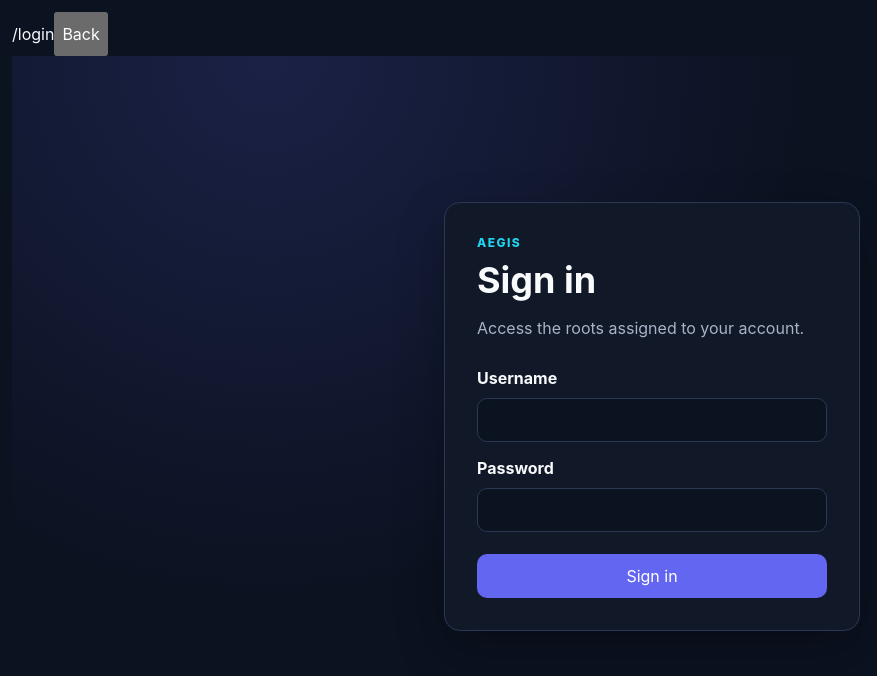
Scenario: LoginPage › blocks sign-in with a truthful safe message when private cleanup fails
The width and height of the screenshot is (877, 676).
Type "alice" into the field labelled "Username".
click(652, 420); type("alice")  # box [477, 398, 827, 442]
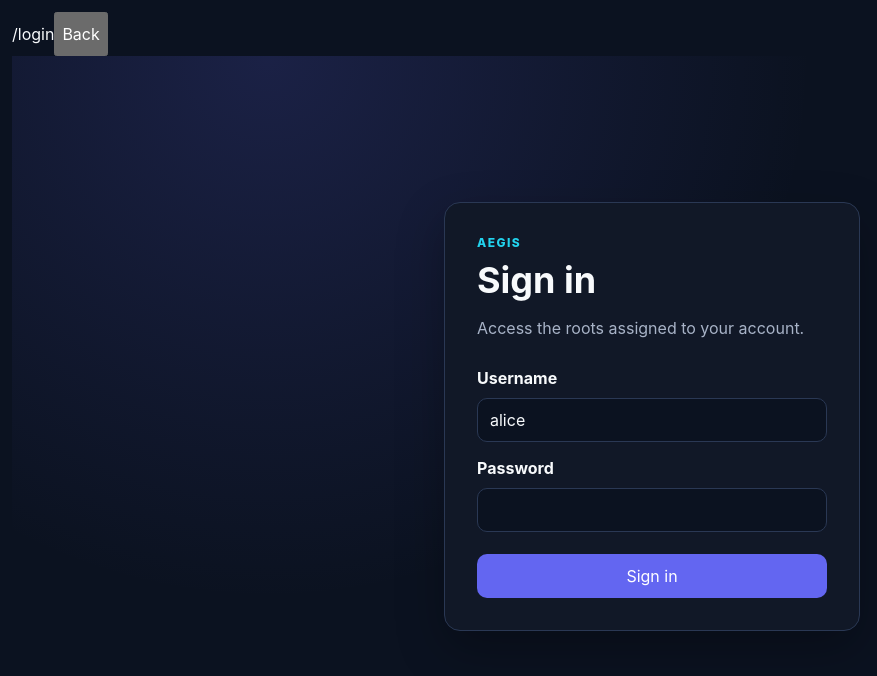
Type "correct horse battery staple" into the password field labelled "Password".
click(652, 510); type("correct horse battery staple")  # box [477, 488, 827, 532]
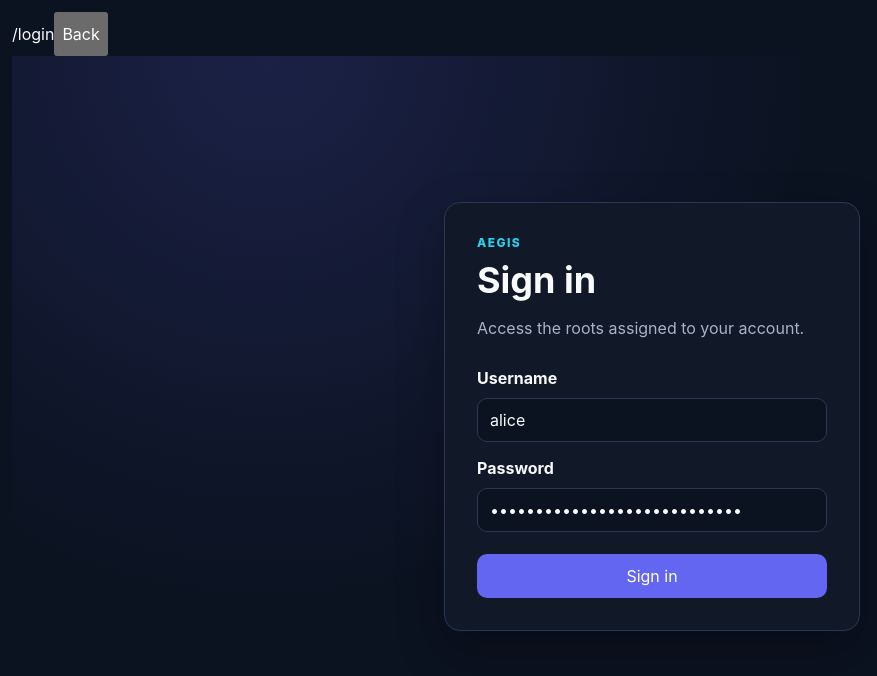
Click the button "Sign in".
click(652, 576)  # box [477, 554, 827, 598]
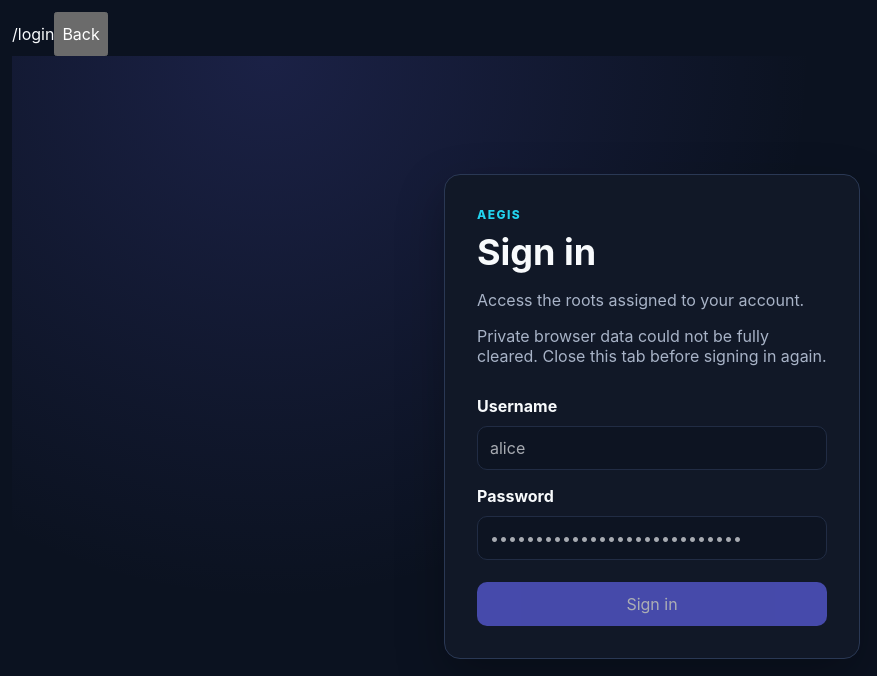
Expected: the text named "Current route" reads "/login", [12, 24, 54, 44]
Expected: the message shows "Private browser data could not be fully cleared. Close this tab before signing in again.", [477, 326, 826, 366]
Expected: the button "Sign in" is disabled, [477, 582, 827, 626]
